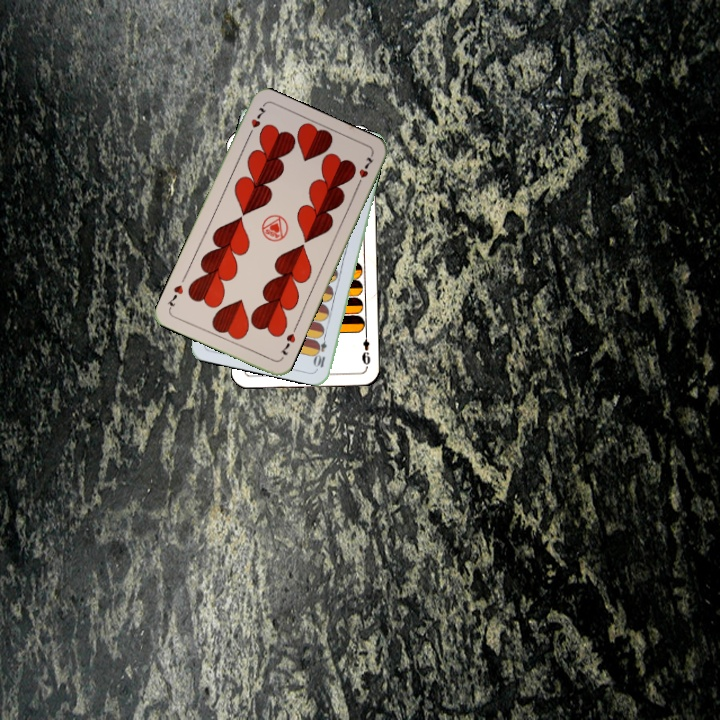E10: (312, 329, 329, 370)
E9: (358, 328, 373, 367)
H7: (244, 102, 269, 140), (276, 329, 298, 358)
